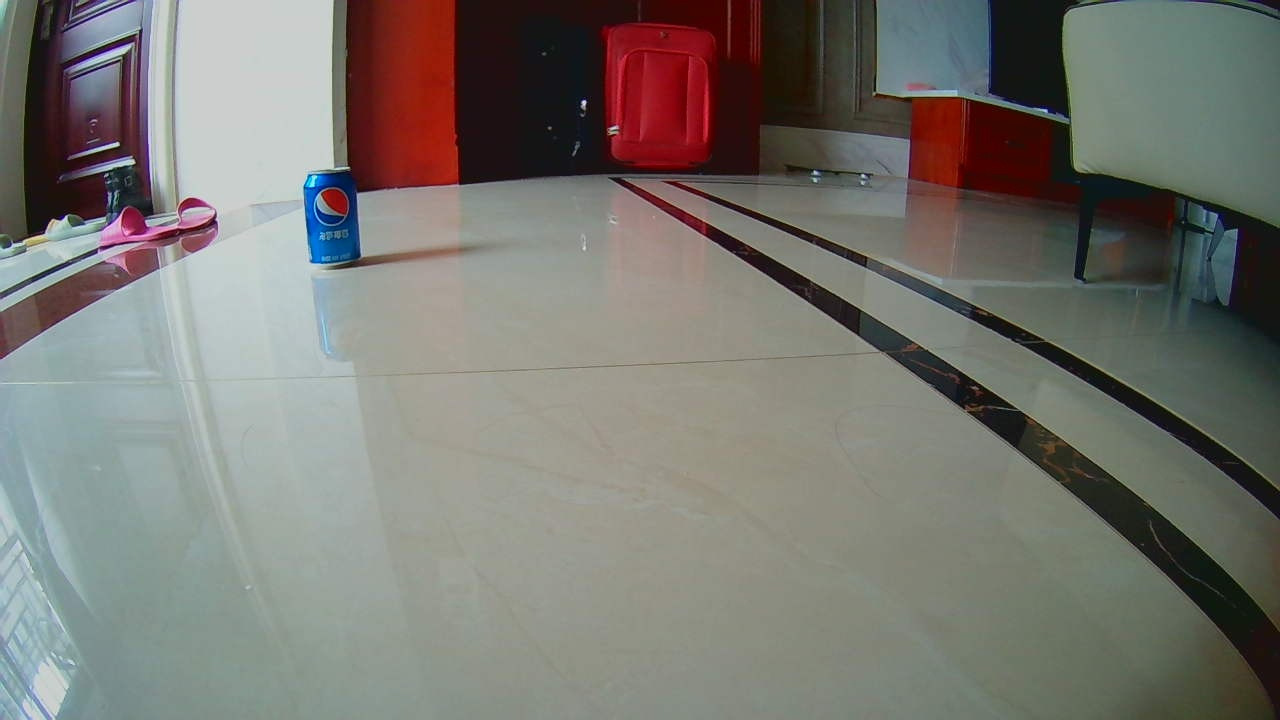pessi: (304, 170, 362, 267)
